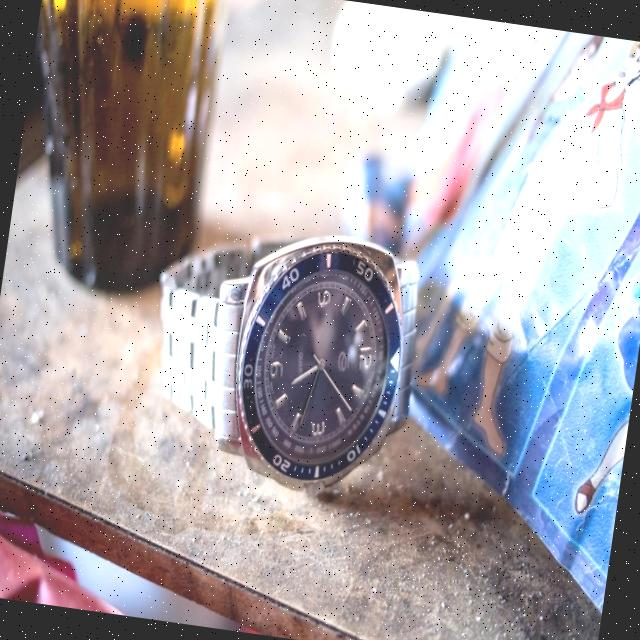Wrist watch: (132, 211, 432, 508)
